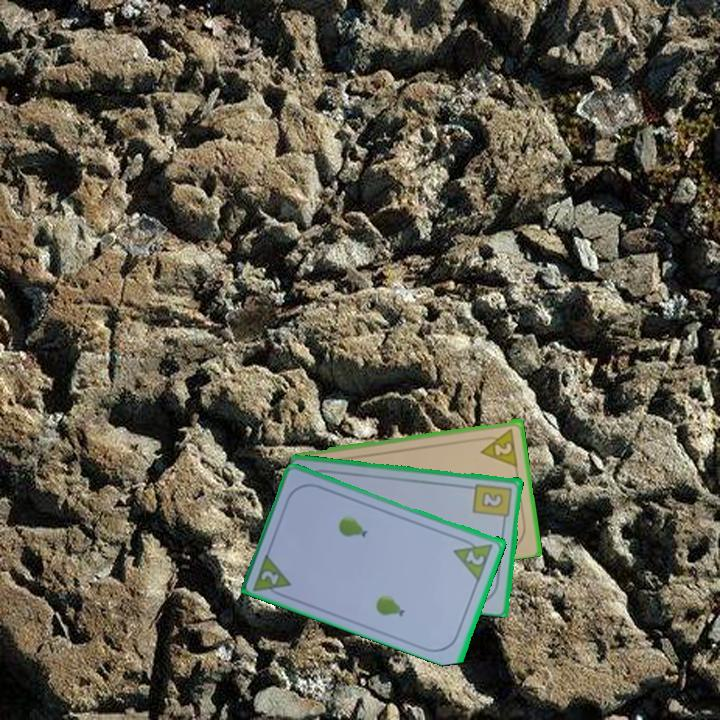2b: (470, 480, 515, 525)
2p: (250, 549, 295, 601), (450, 533, 496, 582), (476, 424, 520, 468)
